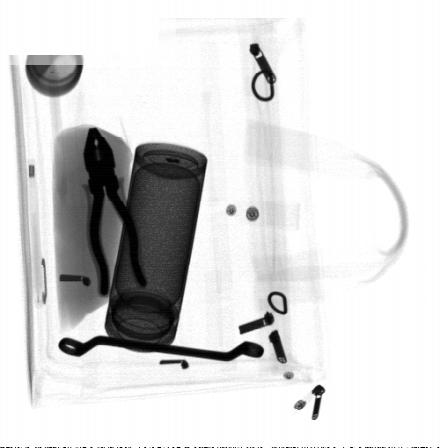Pliers: (82, 126, 151, 297)
Wrench: (59, 334, 265, 361)
